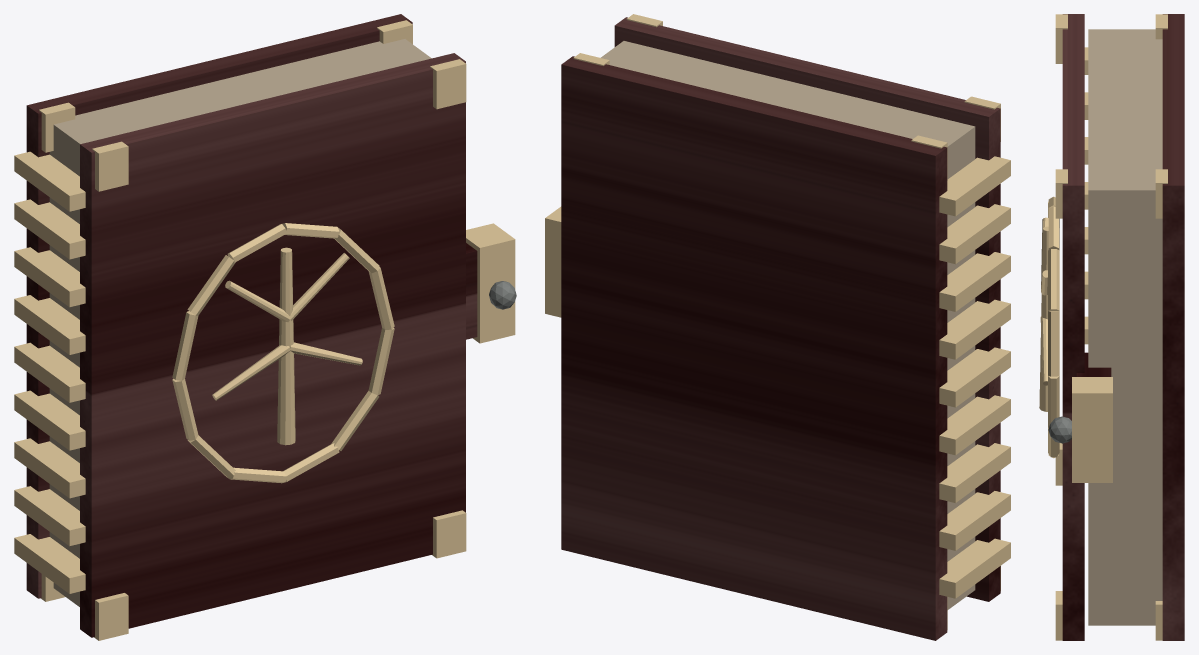
File: Grimoire_Closed.glb
3 renders of one model, left to right at view 1: azimuth 30°, elevation 25°; view 2: azimuth 150°, elevation 25°; view 3: azimuth 270°, elevation 25°, orthographic. The views are drawn at different scales.
Parts seen in each view (by area): view 1: Baked_Oxblood leather, Baked_Worn gold, Baked_Dirt on page edges; view 2: Baked_Oxblood leather, Baked_Worn gold, Baked_Dirt on page edges; view 3: Baked_Dirt on page edges, Baked_Oxblood leather, Baked_Worn gold, Baked_Forged iron.
Boxes of the visible parts, left/top/right/bottom form: Baked_Oxblood leather: left=26, top=14, right=477, bottom=637; Baked_Worn gold: left=14, top=20, right=515, bottom=640; Baked_Dirt on page edges: left=49, top=39, right=431, bottom=606; Baked_Oxblood leather: left=561, top=17, right=1000, bottom=640; Baked_Worn gold: left=545, top=14, right=1010, bottom=629; Baked_Dirt on page edges: left=600, top=41, right=975, bottom=609; Baked_Dirt on page edges: left=1088, top=29, right=1162, bottom=625; Baked_Oxblood leather: left=1062, top=14, right=1184, bottom=640; Baked_Worn gold: left=1039, top=14, right=1167, bottom=640; Baked_Forged iron: left=1048, top=416, right=1071, bottom=443.
Bounding box in the file's own units: 0.9745 × 1.02 × 0.293.
4 materials, 1 textured.
